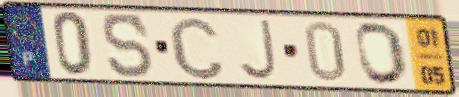0: (51, 9, 97, 79), (301, 19, 349, 85)
C: (166, 14, 228, 83)
J: (235, 17, 279, 82)
O: (353, 20, 411, 87)
S: (100, 11, 157, 81)
